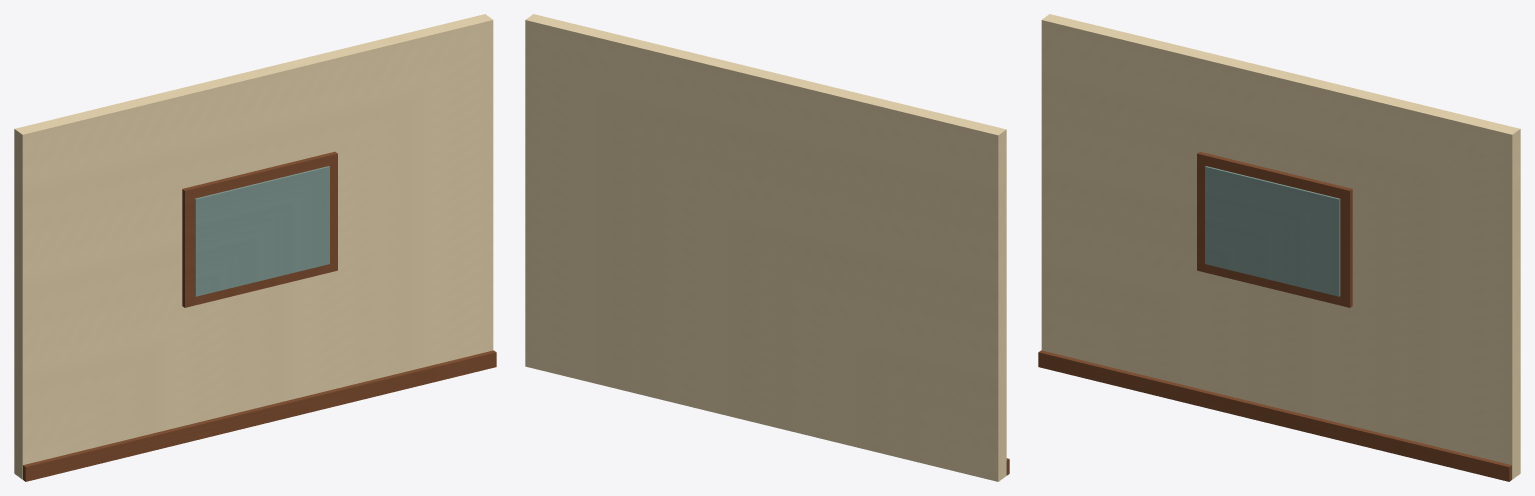
The model's file is north.glb.
The picture shows the model from 3 angles, left to right: view 1: azimuth 30°, elevation 25°; view 2: azimuth 150°, elevation 25°; view 3: azimuth 330°, elevation 25°; orthographic projection.
Visible parts, largest first — view 1: north; view 2: north; view 3: north.
Boxes of the visible parts, x1,y1,x2,y2 form: north: [14, 14, 496, 481]; north: [525, 14, 1009, 481]; north: [1038, 14, 1520, 481].
Size of the model in its own units: 4 by 2.8 by 0.19.
1 material, 1 textured.
